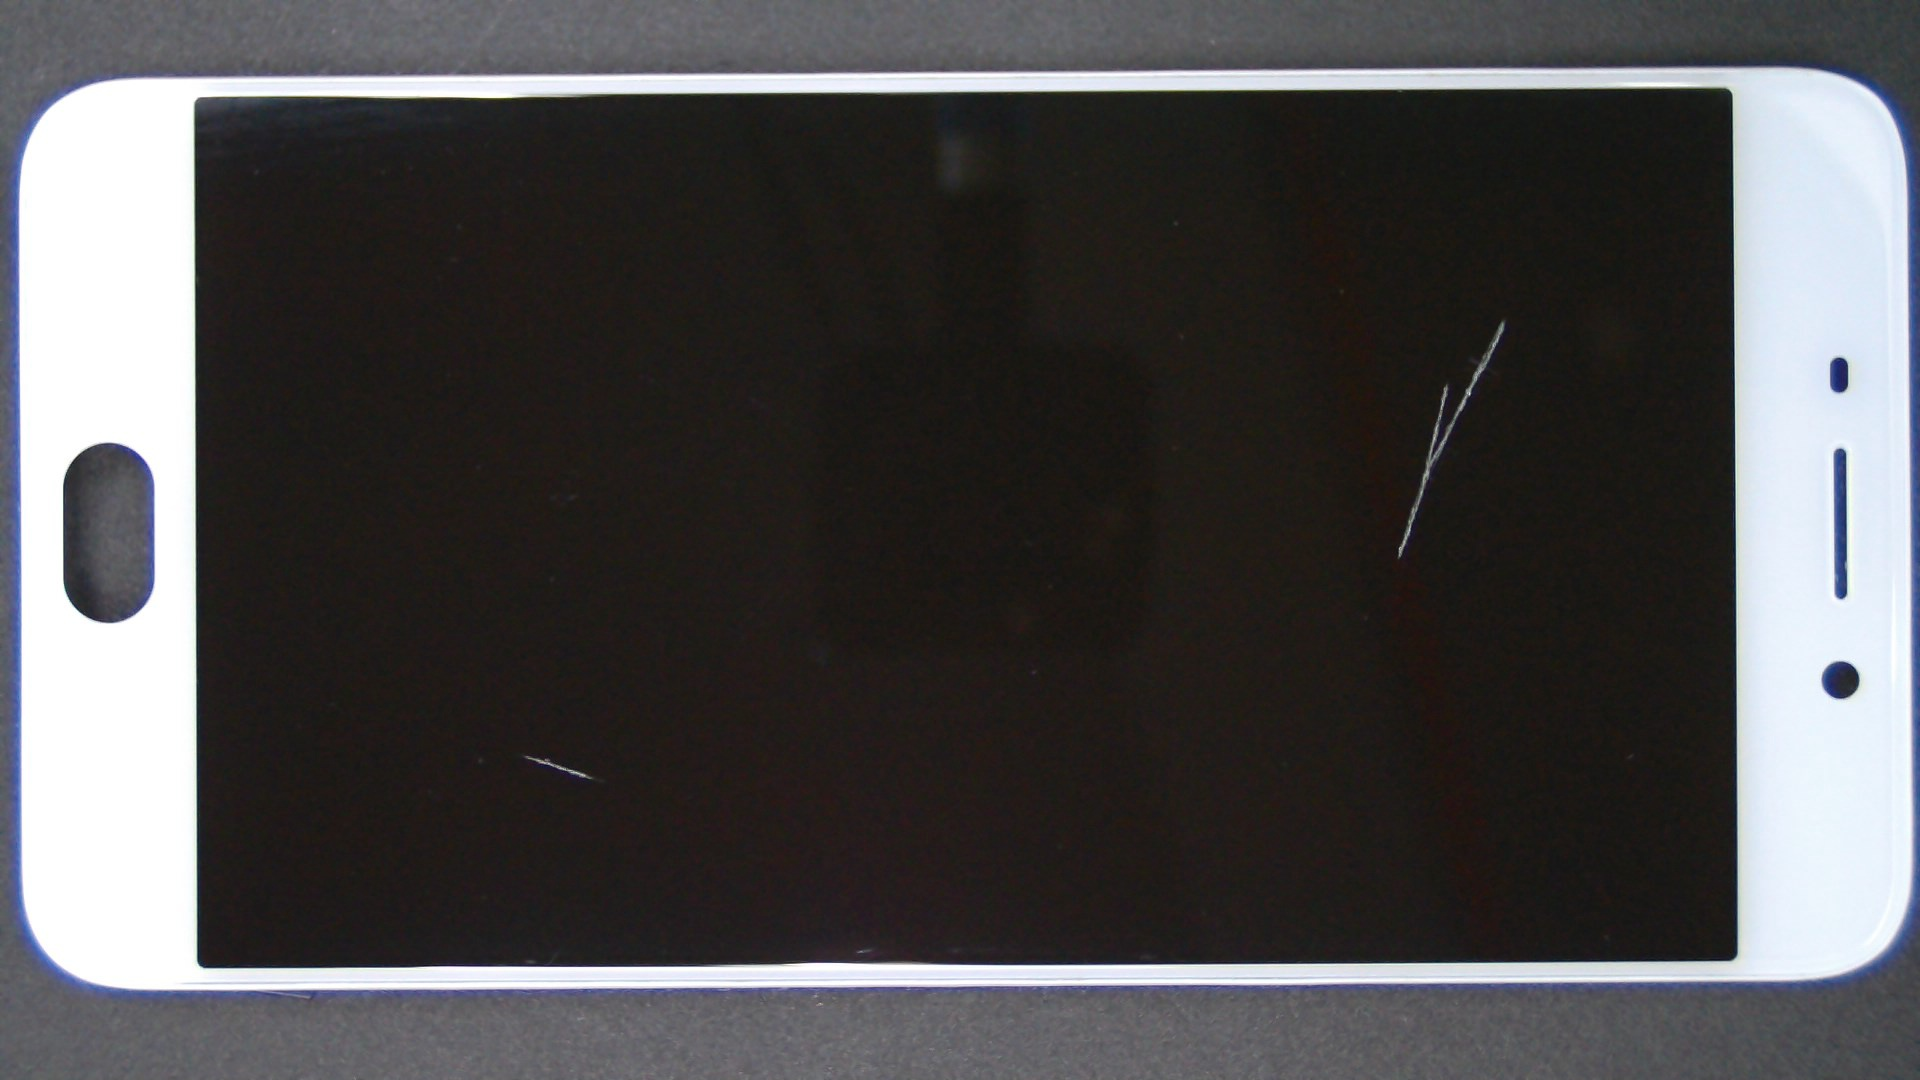oil: (753, 160, 1920, 479), (262, 377, 786, 1080)
